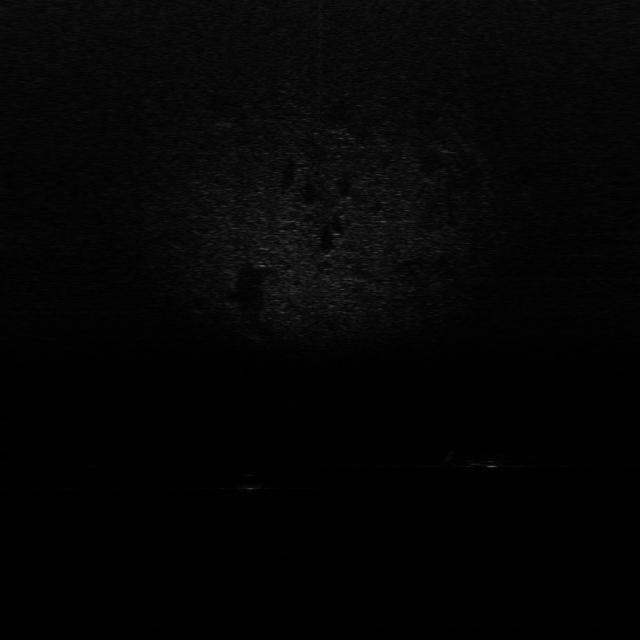ball: (236, 469, 266, 492)
human body: (444, 451, 544, 478)
